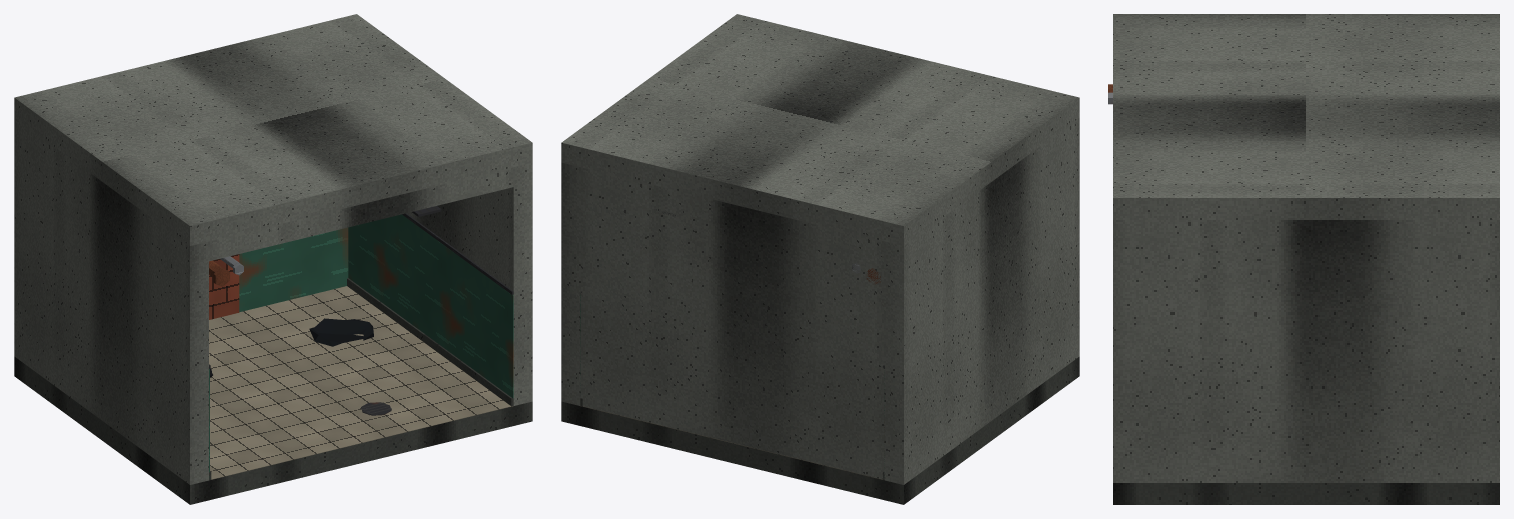
The model's file is corridor_dead_end.glb.
3 renders of one model, left to right at view 1: azimuth 30°, elevation 25°; view 2: azimuth 150°, elevation 25°; view 3: azimuth 270°, elevation 25°, orthographic. The views are drawn at different scales.
Parts seen in each view (by area): view 1: corridor_dead_end; view 2: corridor_dead_end; view 3: corridor_dead_end.
Boxes of the visible parts, box(x1,y1,x2,y2) form: corridor_dead_end: box(14, 14, 532, 504); corridor_dead_end: box(561, 14, 1079, 504); corridor_dead_end: box(1108, 14, 1499, 504).
Size of what is drawn, in the model's own units: 4.5 by 3.5 by 4.05.
12 materials, 9 textured.
